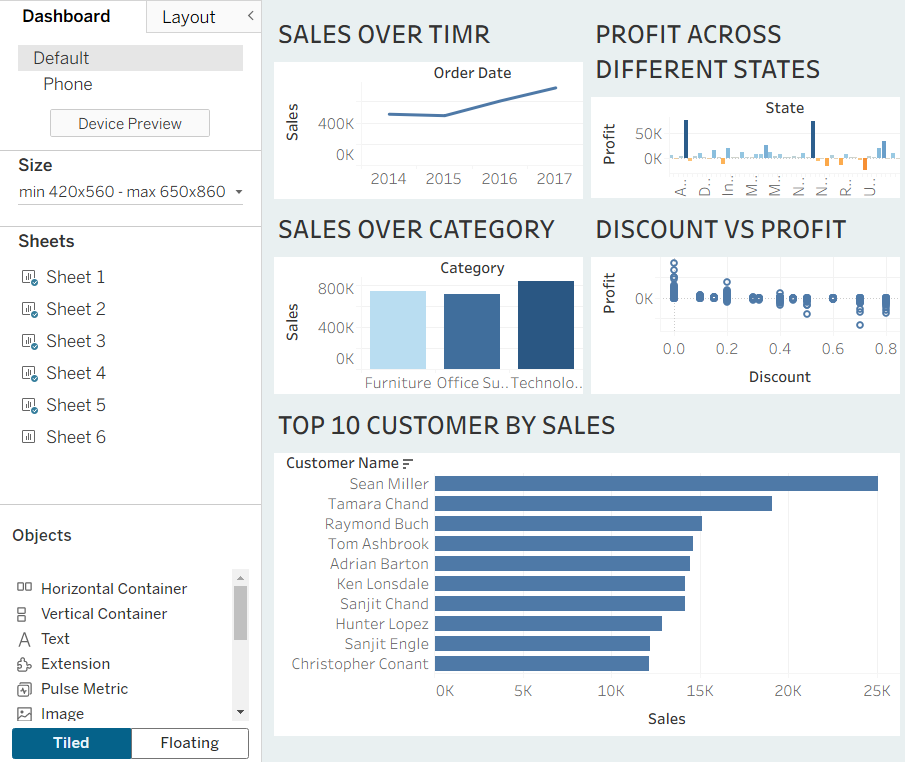

The page's visual inventory and layout, read from the dashboard file:
{"tool":"tableau","page":{"name":"Dashboard 1","canvas":[650,860],"ordinal":0},"visuals":[{"type":"worksheet","title":"Sheet 2","mark":"Automatic","rows":["Sales"],"cols":["Order Date"],"box":[8,8.6,317,210.7]},{"type":"worksheet","title":"Sheet 3","mark":"Automatic","rows":["Profit"],"cols":["State"],"box":[325,8.6,317,210.7]},{"type":"worksheet","title":"Sheet 1","mark":"Automatic","rows":["Sales"],"cols":["Category"],"box":[8,219.3,317,210.7]},{"type":"worksheet","title":"Sheet 4","mark":"Shape","rows":["Profit"],"cols":["Discount"],"box":[325,219.3,317,210.7]},{"type":"worksheet","title":"Sheet 5","mark":"Automatic","rows":["Customer Name"],"cols":["Sales"],"box":[8,430,634,421.4]}]}

Visuals, with their boxes on the page's 650x860 design canvas (x1, y1, x2, y2). These are canvas units, not pixel positions in the 905x762 screenshot, which may show the page scaled, cropped or inside an application window:
"Sheet 2" worksheet: bbox(8, 9, 325, 219)
"Sheet 3" worksheet: bbox(325, 9, 642, 219)
"Sheet 1" worksheet: bbox(8, 219, 325, 430)
"Sheet 4" worksheet (Shape marks): bbox(325, 219, 642, 430)
"Sheet 5" worksheet: bbox(8, 430, 642, 851)
